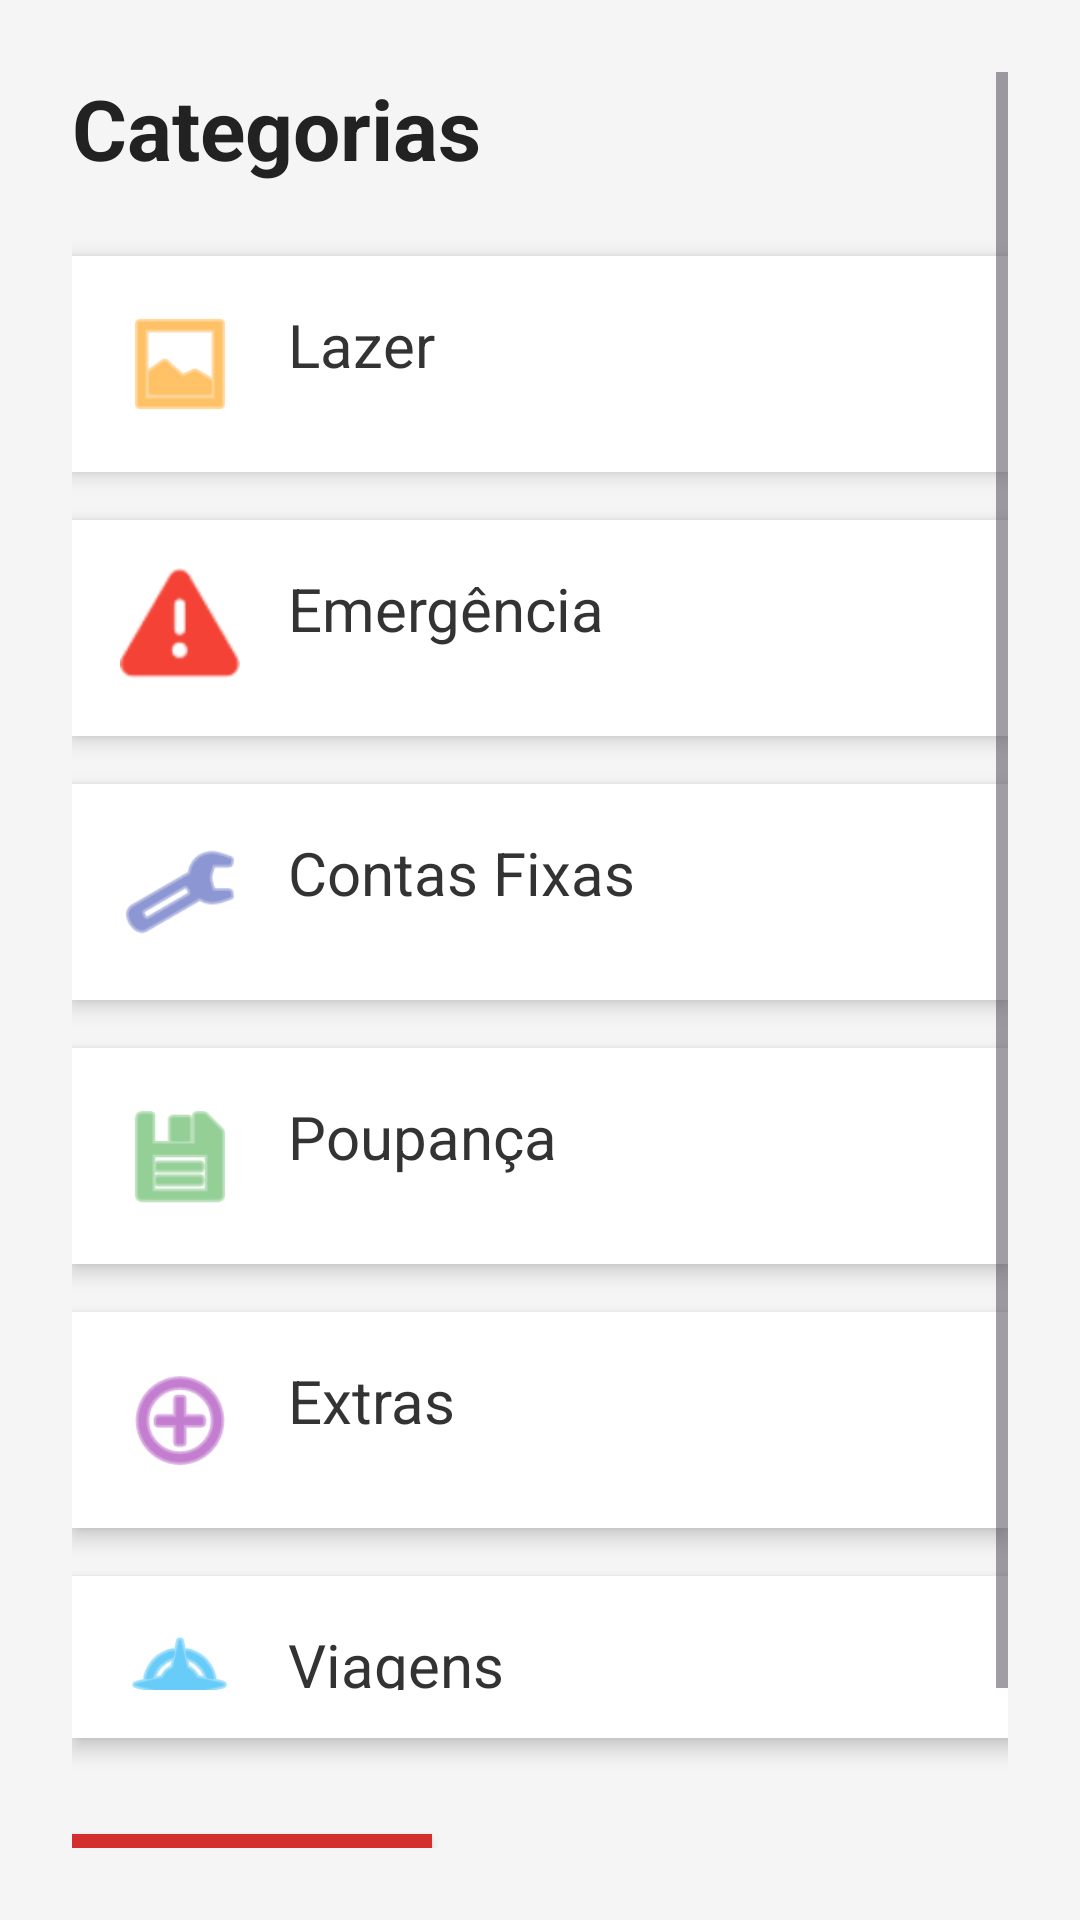

Named icons in this screenshot (1080×1920) and their bounding boxes, box=[x1, y1, x2, y2]:
add: box=[135, 1376, 225, 1465]
alert: box=[120, 568, 240, 677]
gallery: box=[135, 319, 225, 409]
manage: box=[126, 851, 234, 933]
save: box=[135, 1111, 225, 1202]
